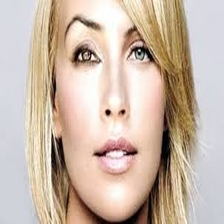no_mask: (53, 2, 162, 219)
